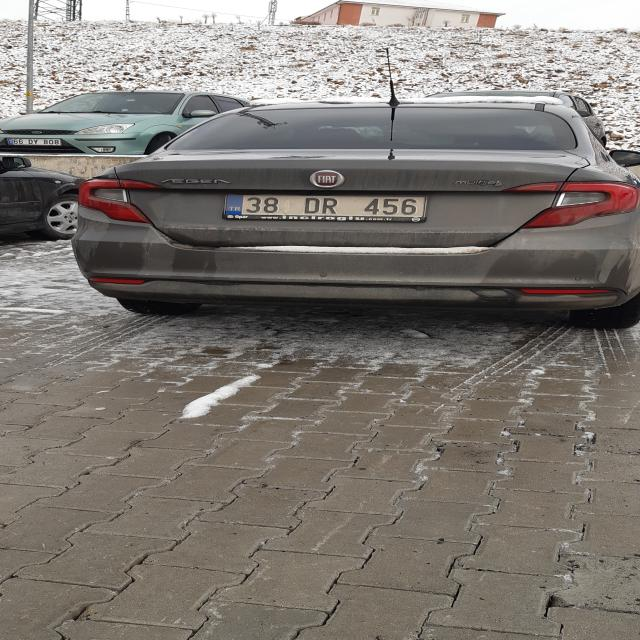plate: (225, 194, 427, 218)
